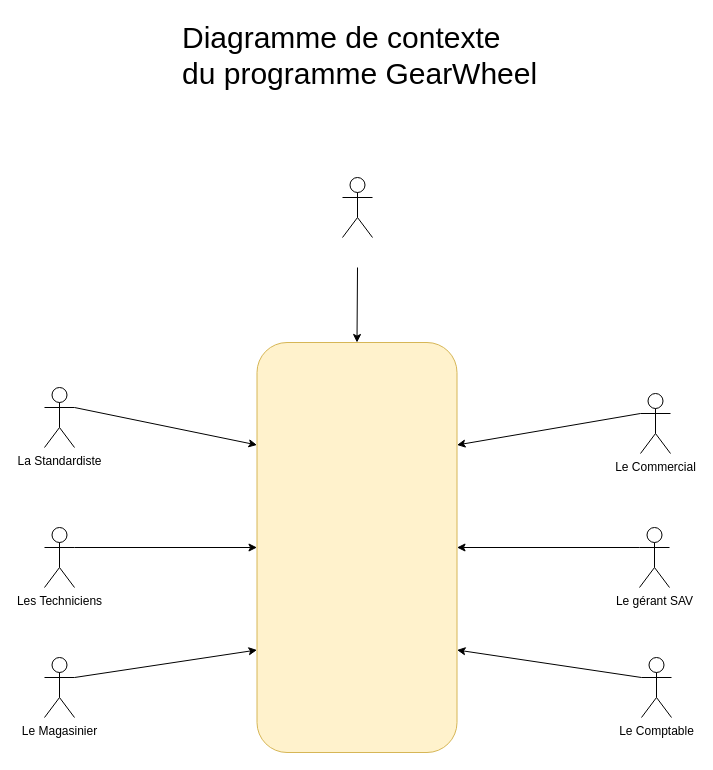
Image size: 713x770. Some labels were removed from this diagram. The shapes that lost their labels are listed below. From the top down, each one's centre as x and y in pixels, then its label:
[357,207]: Le Patron
[356,547]: GearWheel
